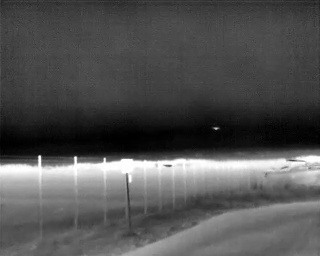AIRPLANE: (211, 124, 221, 132)
